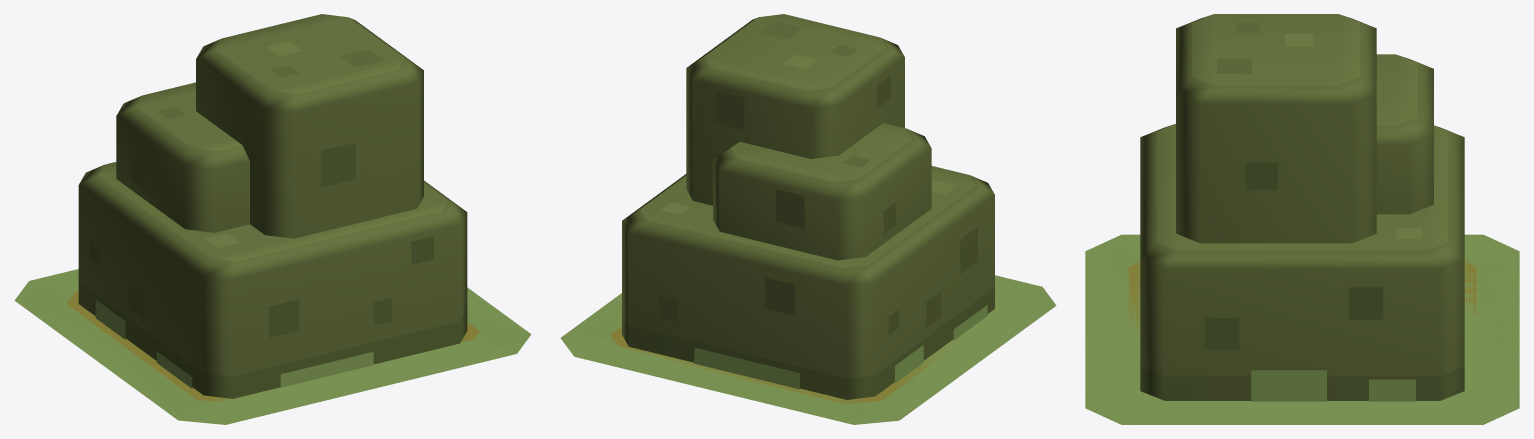
File: B_water2_rock01.fbx
The picture shows the model from 3 angles, left to right: view 1: azimuth 30°, elevation 25°; view 2: azimuth 150°, elevation 25°; view 3: azimuth 270°, elevation 25°; orthographic projection. The views are drawn at different scales.
Visible parts, largest first — view 1: model 1, model; view 2: model 1, model; view 3: model 1, model.
Part boxes in pixels (x1,y1,x2,y2): model 1: (15,14,530,424); model: (14,269,531,424); model 1: (561,14,1055,424); model: (560,275,1056,424); model 1: (1085,14,1519,424); model: (1085,234,1519,424).
Bounding box in the file's own units: 3.62 × 2.63 × 3.49.
